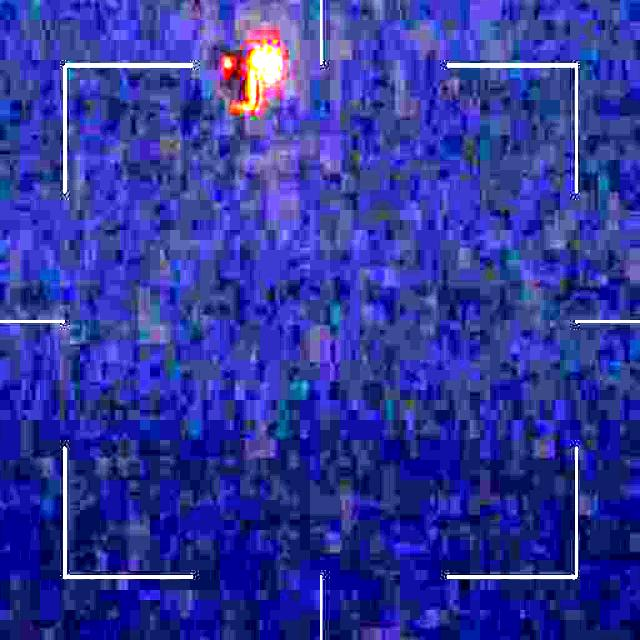bird: (209, 39, 282, 129)
